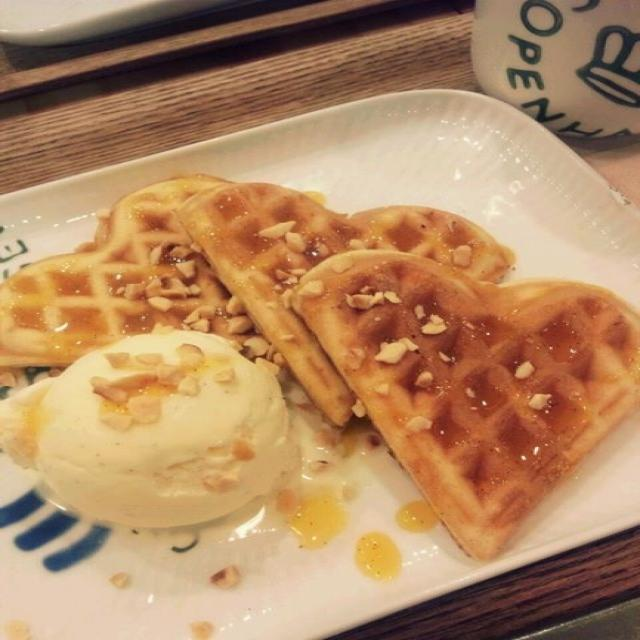面条主食: (224, 96, 424, 499), (0, 197, 198, 499), (462, 192, 640, 464)
